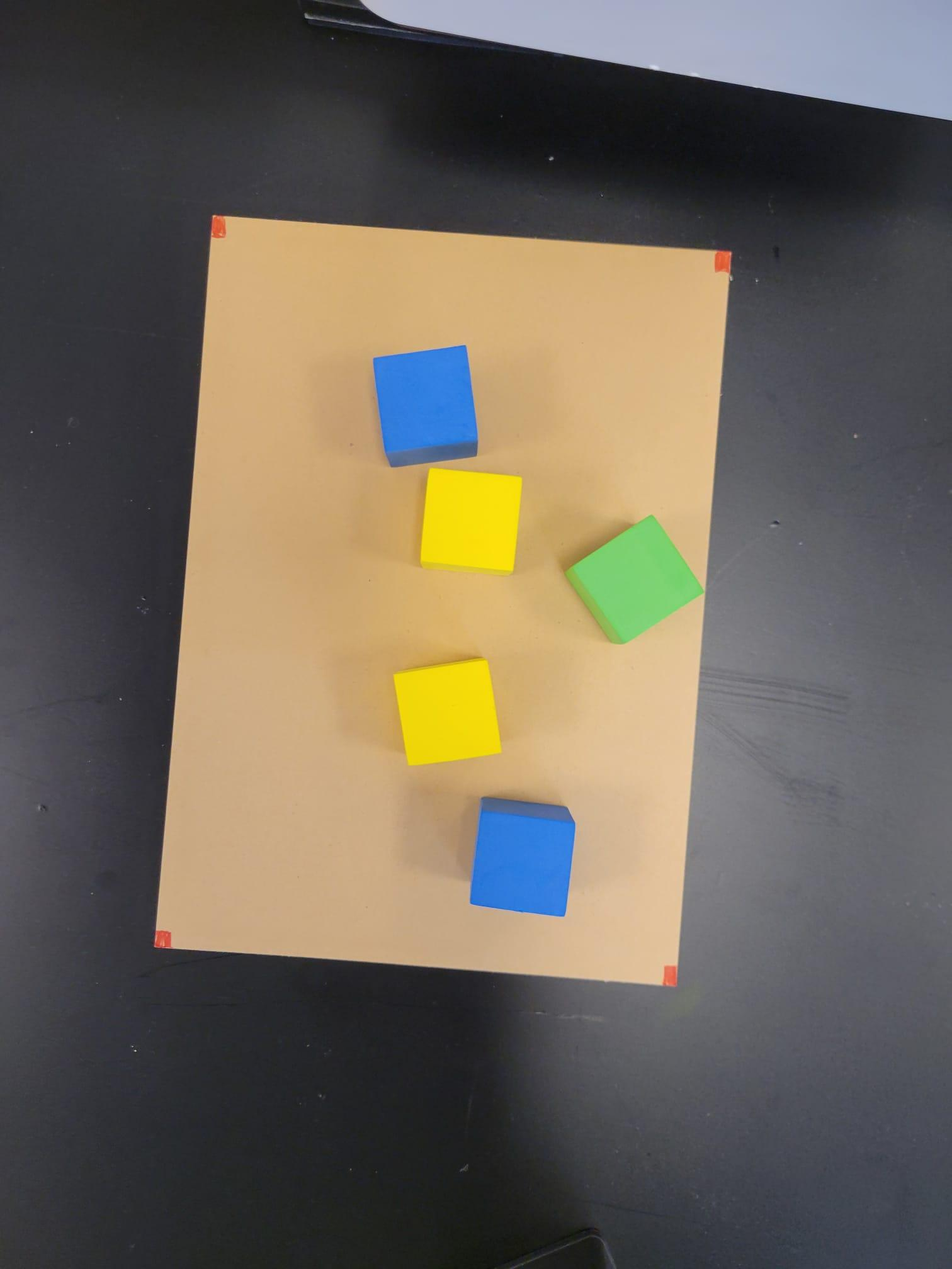cube: (567, 513, 700, 644), (373, 340, 480, 469), (469, 795, 576, 921), (394, 651, 505, 771), (420, 467, 524, 576)
